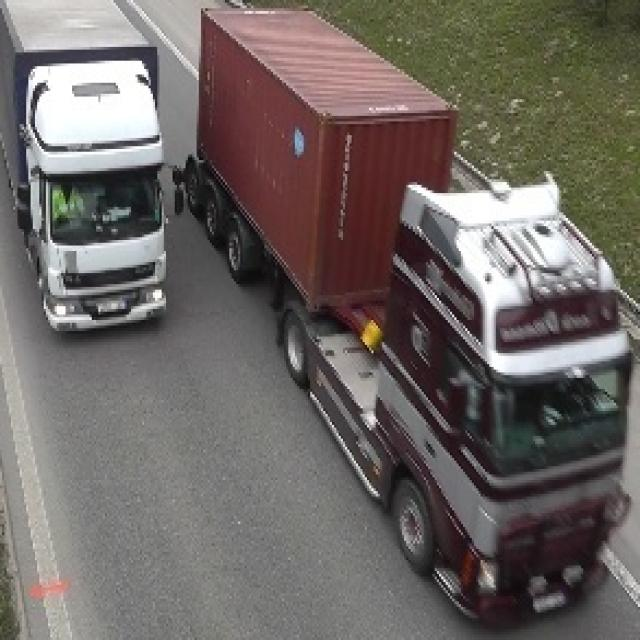TRUCK: (206, 1, 628, 622), (14, 4, 172, 344)
